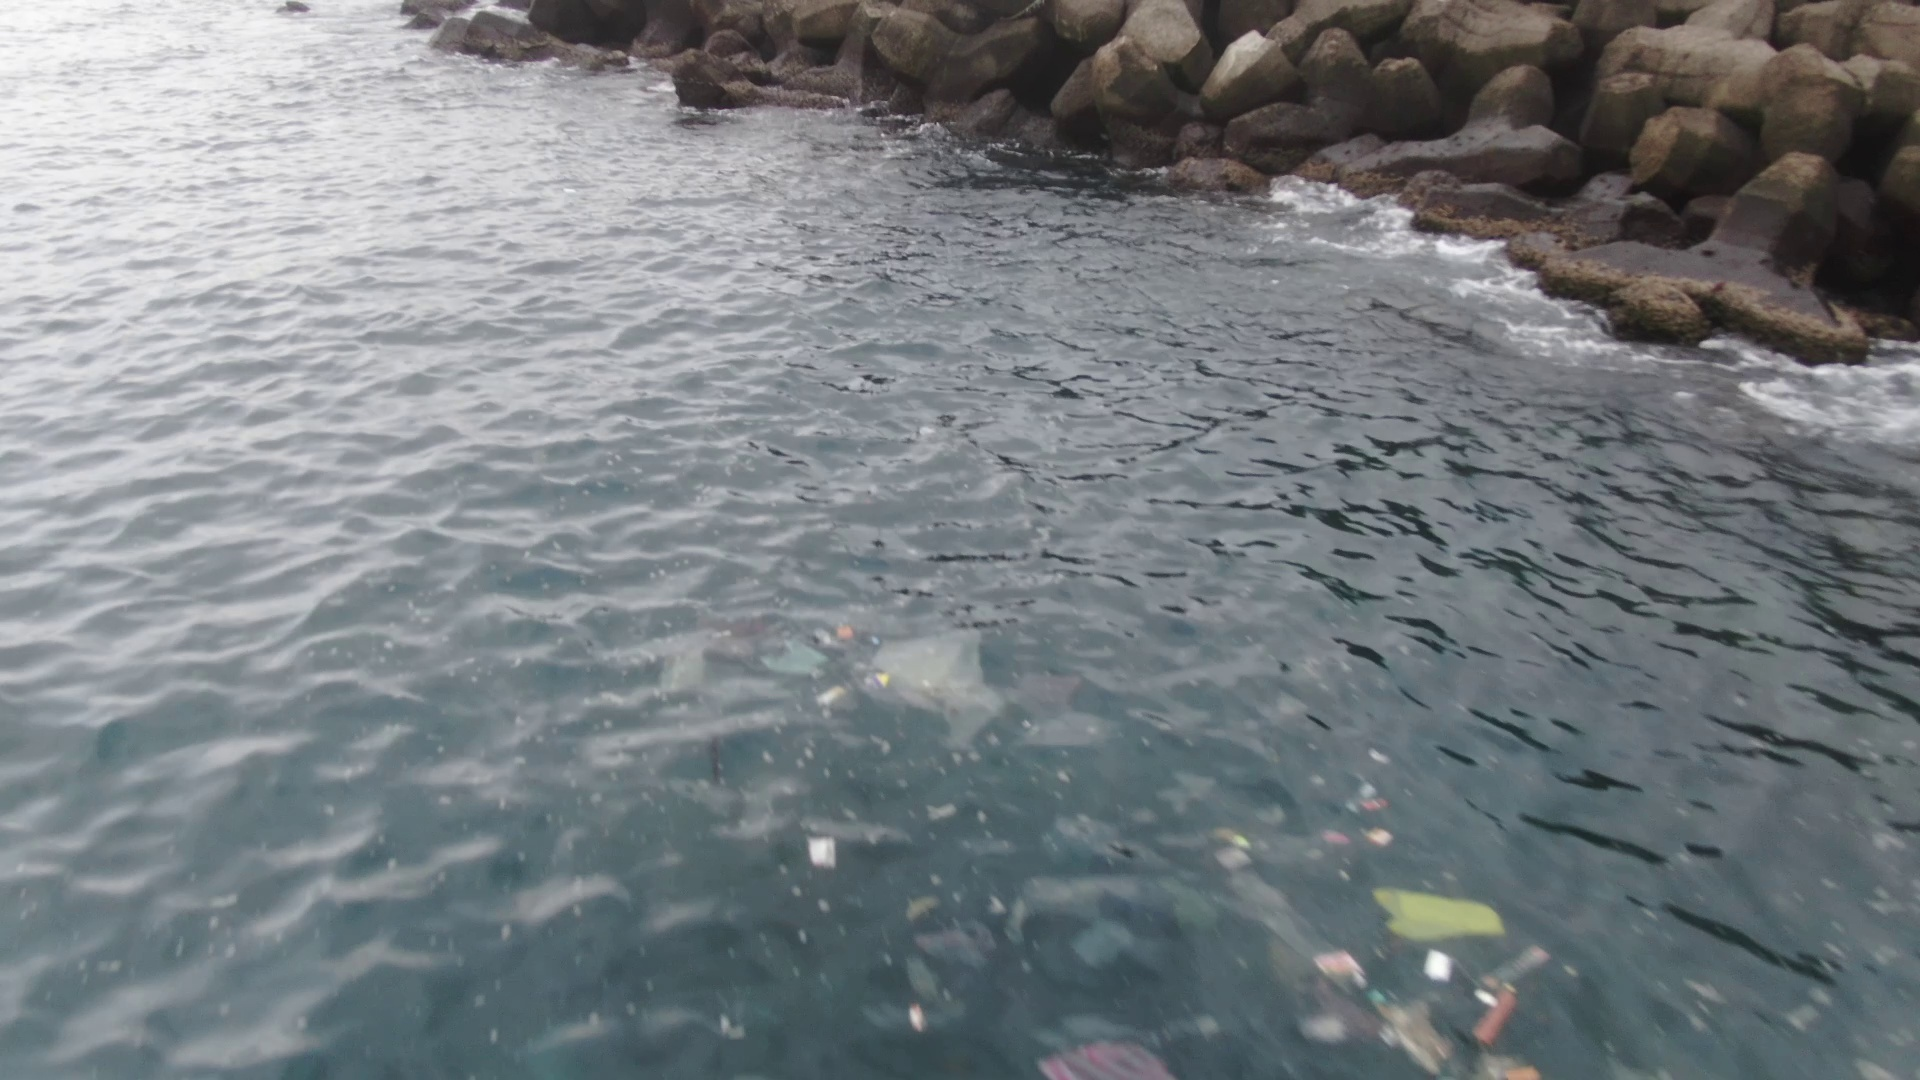garbage: (756, 622, 1124, 771), (1225, 877, 1373, 1040), (1193, 783, 1408, 876), (1379, 988, 1538, 1080), (1370, 881, 1513, 952), (1021, 1025, 1167, 1080), (795, 827, 848, 874)
